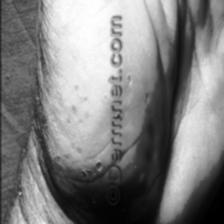Potentially Malignant Skin Tumors: (57, 150, 107, 187)
